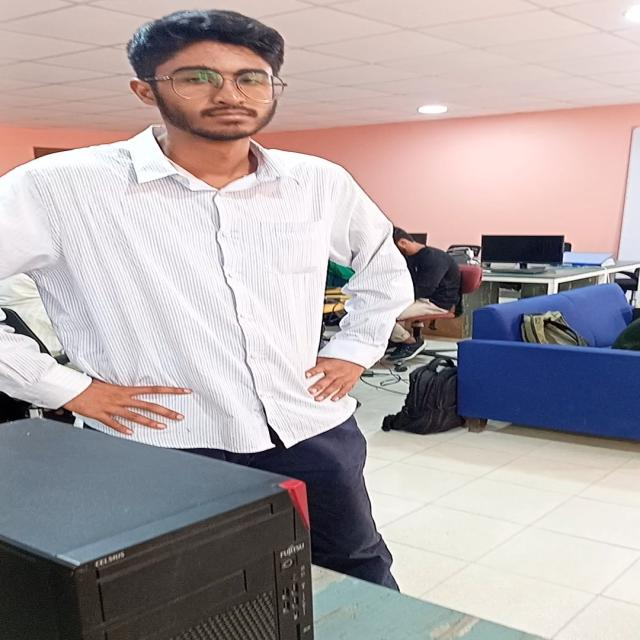dress: (0, 122, 421, 595)
glasses: (166, 62, 286, 106)
